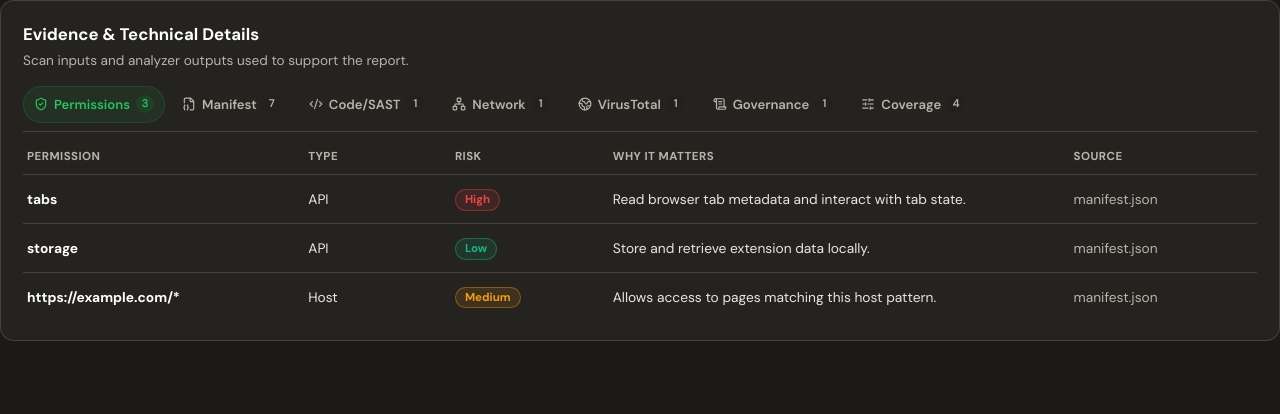
Test case: EvidenceTechnicalDetails › renders VirusTotal coverage, counts, hash, and file details
The image size is (1280, 414).
Step 1. Click the tab "VirusTotal 1" → (631, 104), box [567, 86, 696, 123]
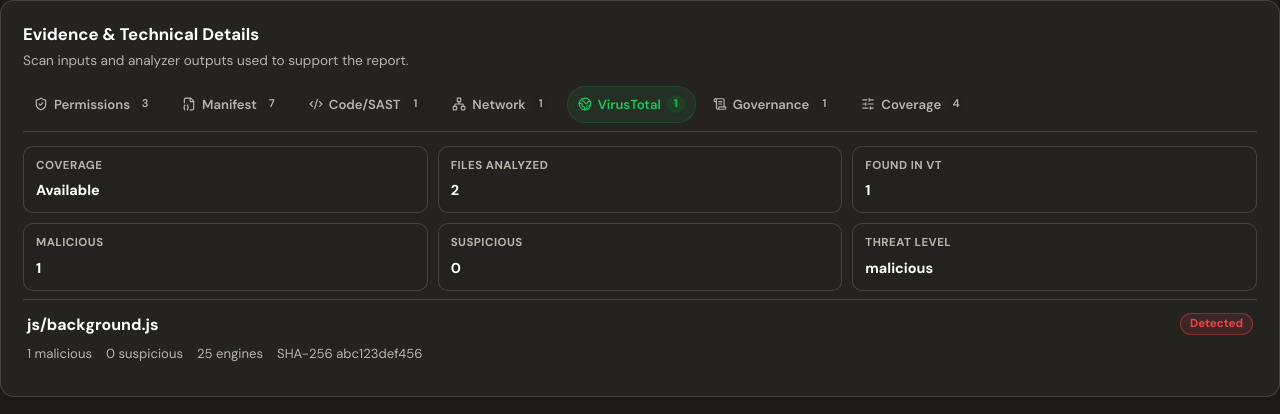
expect the text "Files analyzed" is shown: met, box [451, 158, 548, 173]
expect the text "Malicious" is shown: met, box [36, 235, 104, 250]
expect the text "js/background.js" is shown: met, box [27, 312, 158, 337]
